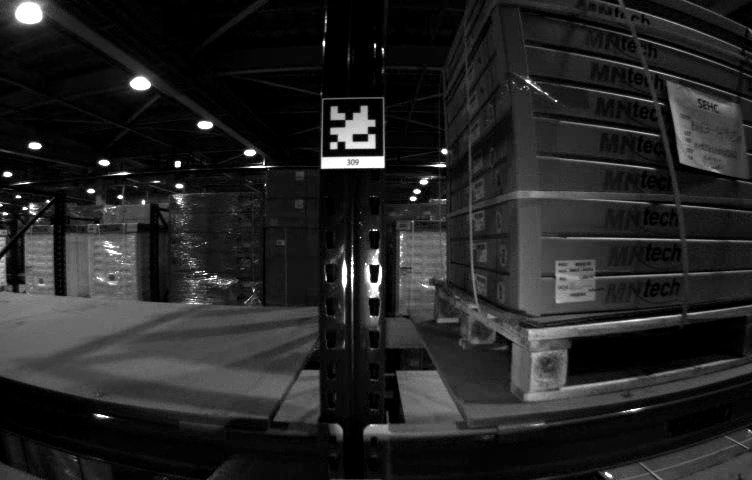True Barcode: (556, 260, 594, 300)
